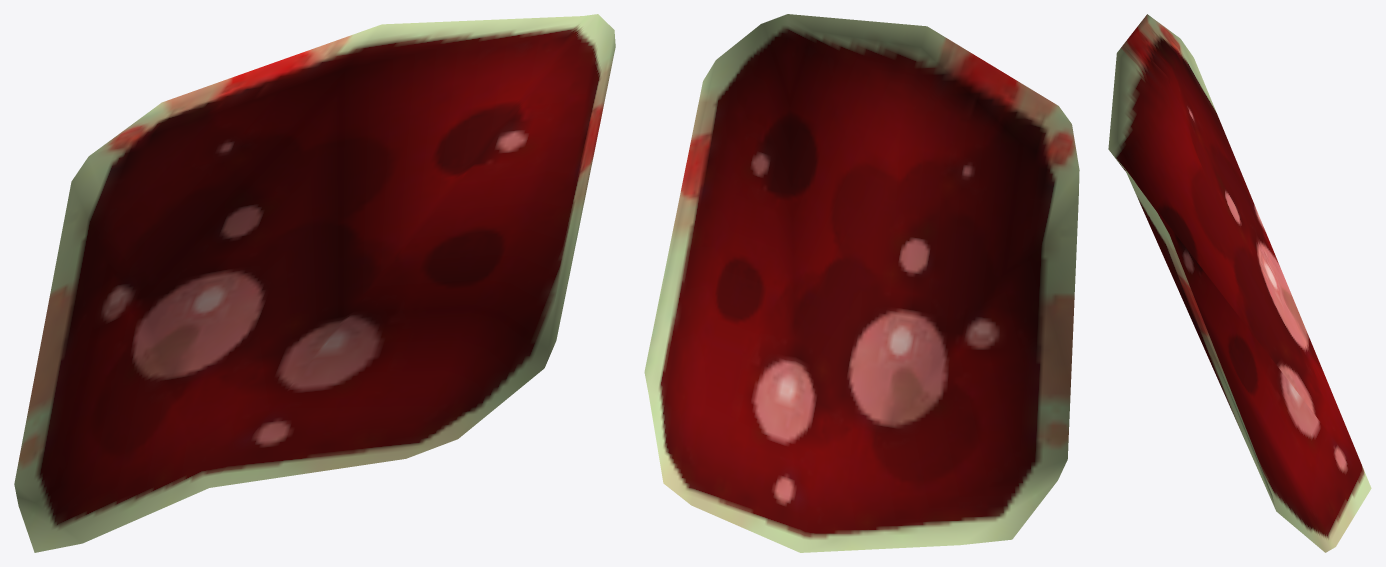
The model's file is Zombie_Broken_Normal_Head01_a49447ef__Zombie_Broken_Green_0_bb717ba8_c1f257.obj.
3 views of the same model, side by side, from view 1: azimuth 30°, elevation 25°; view 2: azimuth 150°, elevation 25°; view 3: azimuth 270°, elevation 25° (orthographic). The views are drawn at different scales.
Bounding box in the file's own units: 0.7158 × 0.7221 × 0.3955.
1 material, 1 textured.
